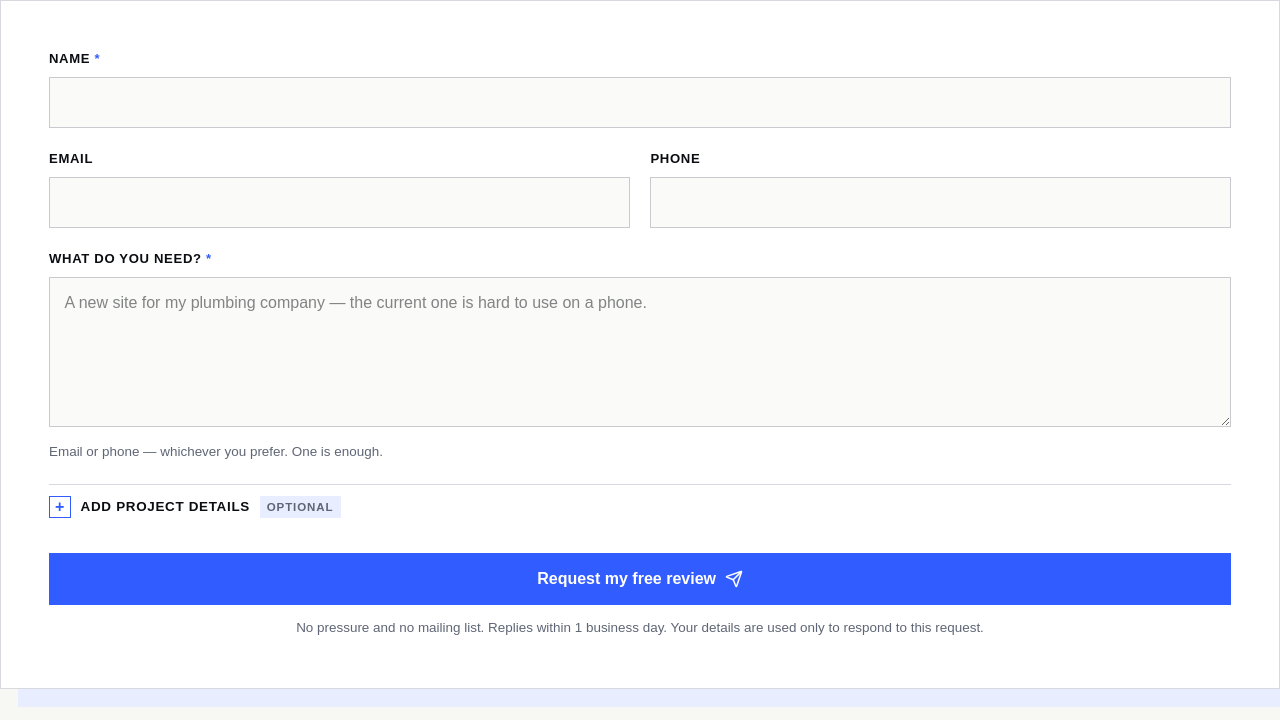
it: contact form › submits with only the fast-path fields filled in
The image size is (1280, 720).
Type "Jamie Rivera" into the field labelled "Name *" at coordinates (640, 102), box [49,77,1231,128]
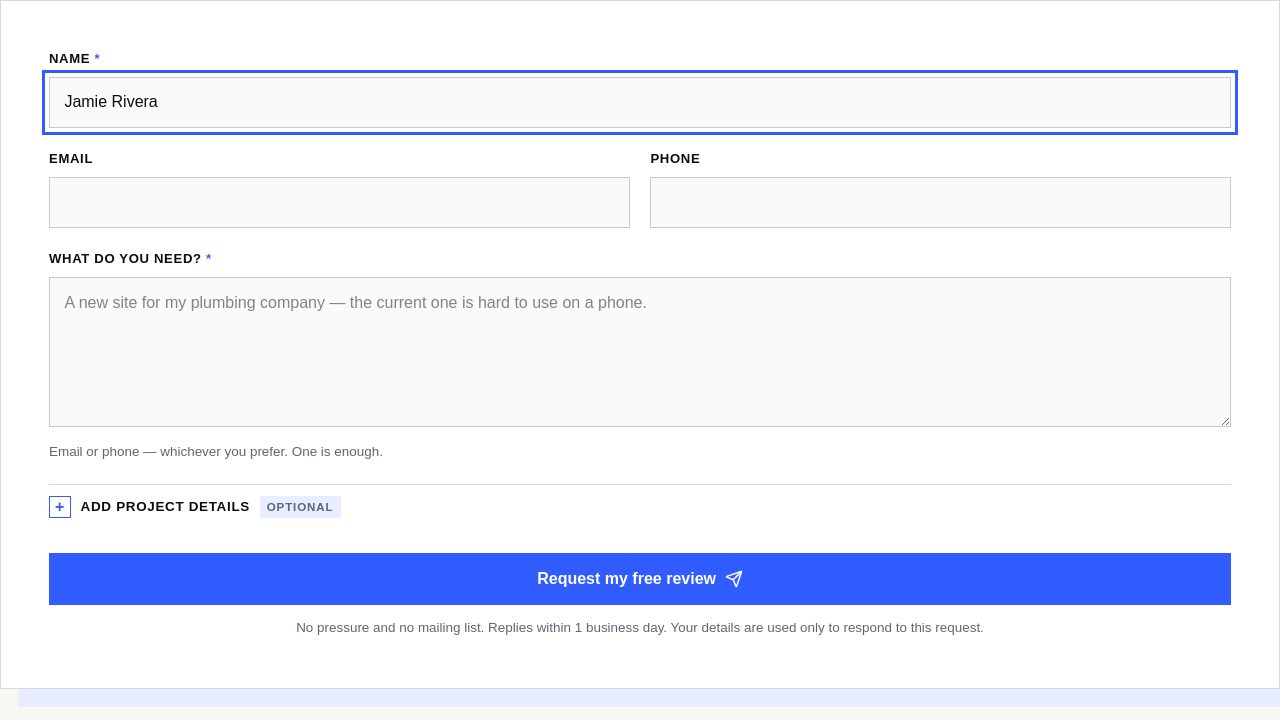
Type "jamie@example.com" into the field labelled "Email" at coordinates (339, 203), box [49,177,630,228]
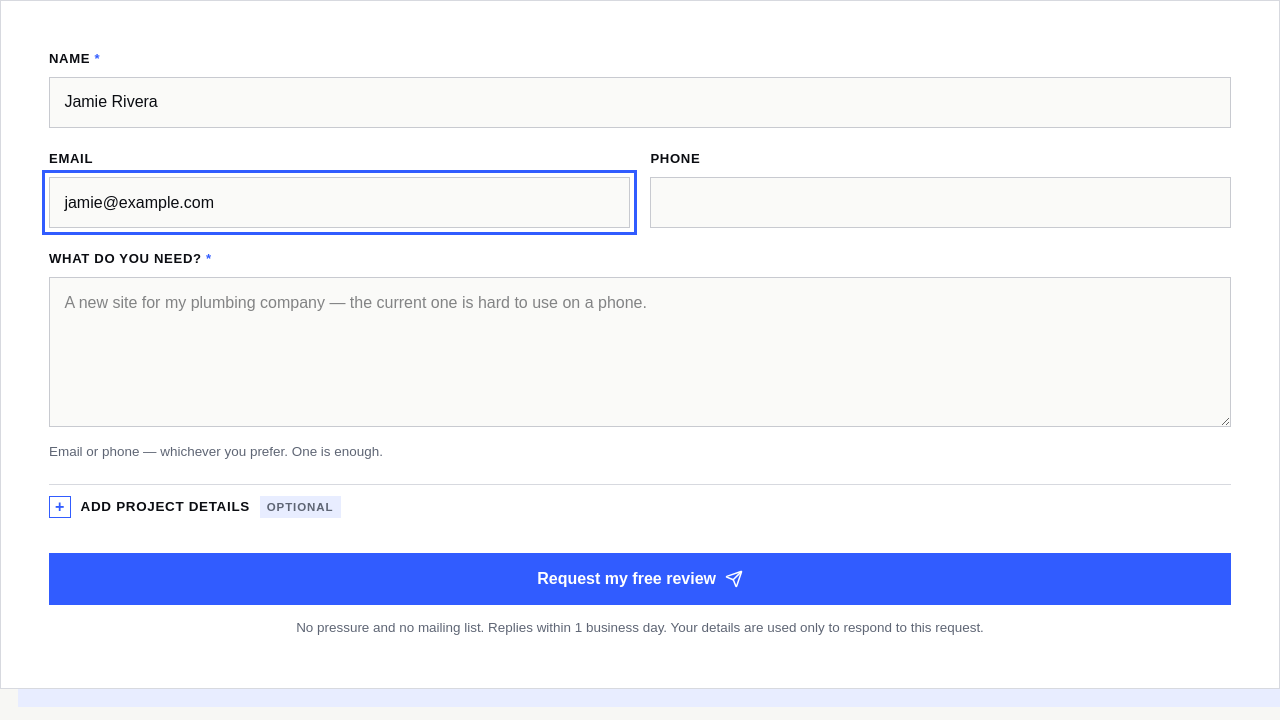
Type "We need a clear website for residential electrical services in Glendale." into the text box labelled "What do you need? *" at coordinates (640, 352), box [49,277,1231,427]
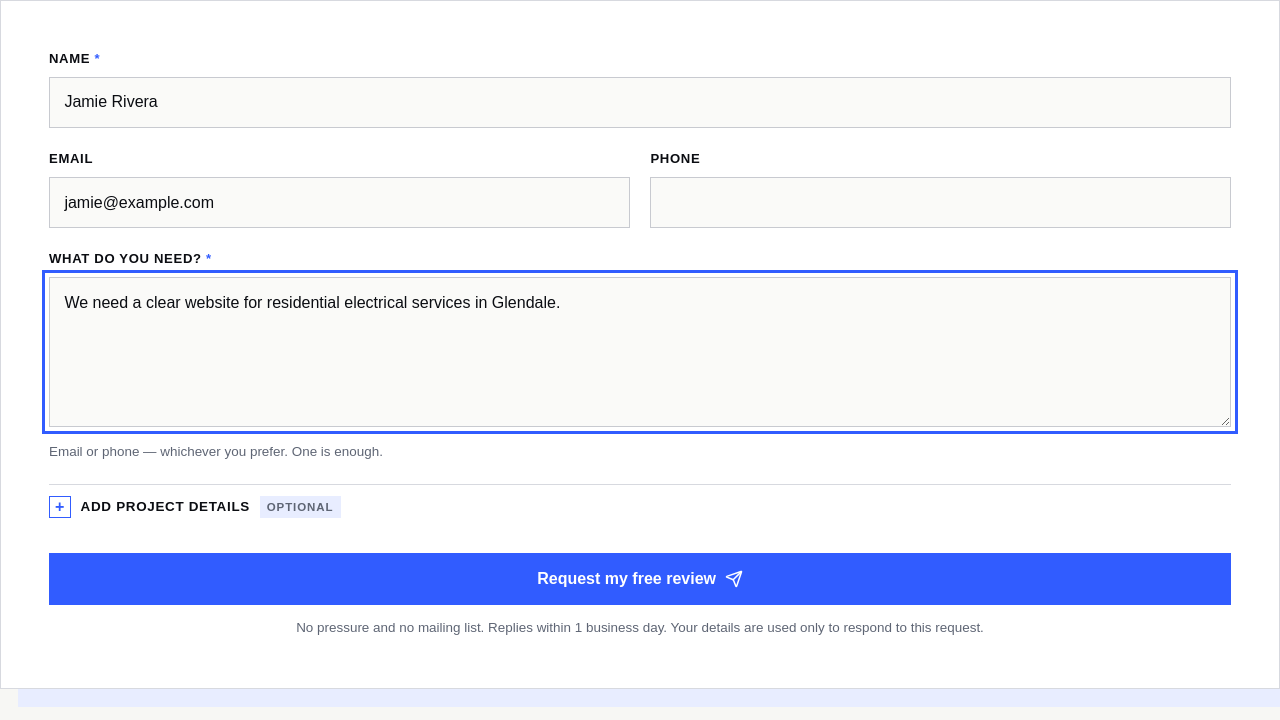
Click the button "Request my free review" at coordinates (640, 579), box [49,553,1231,605]
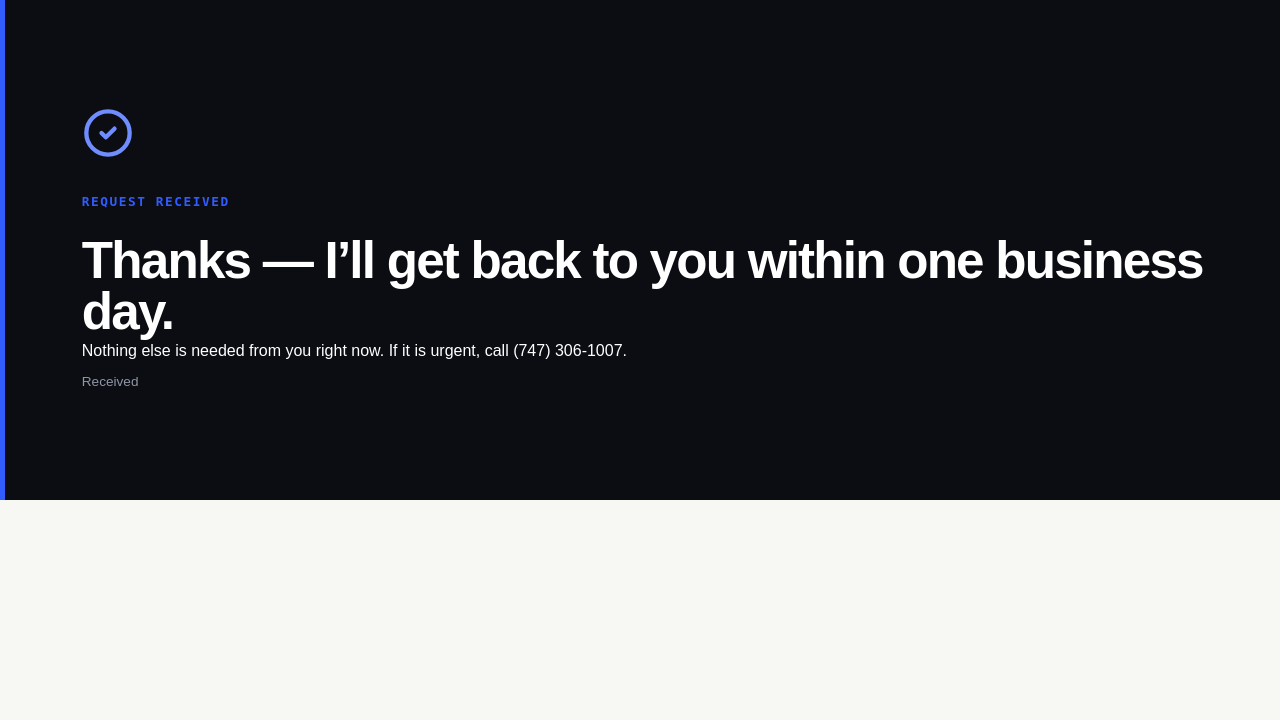
Now the message is shown
